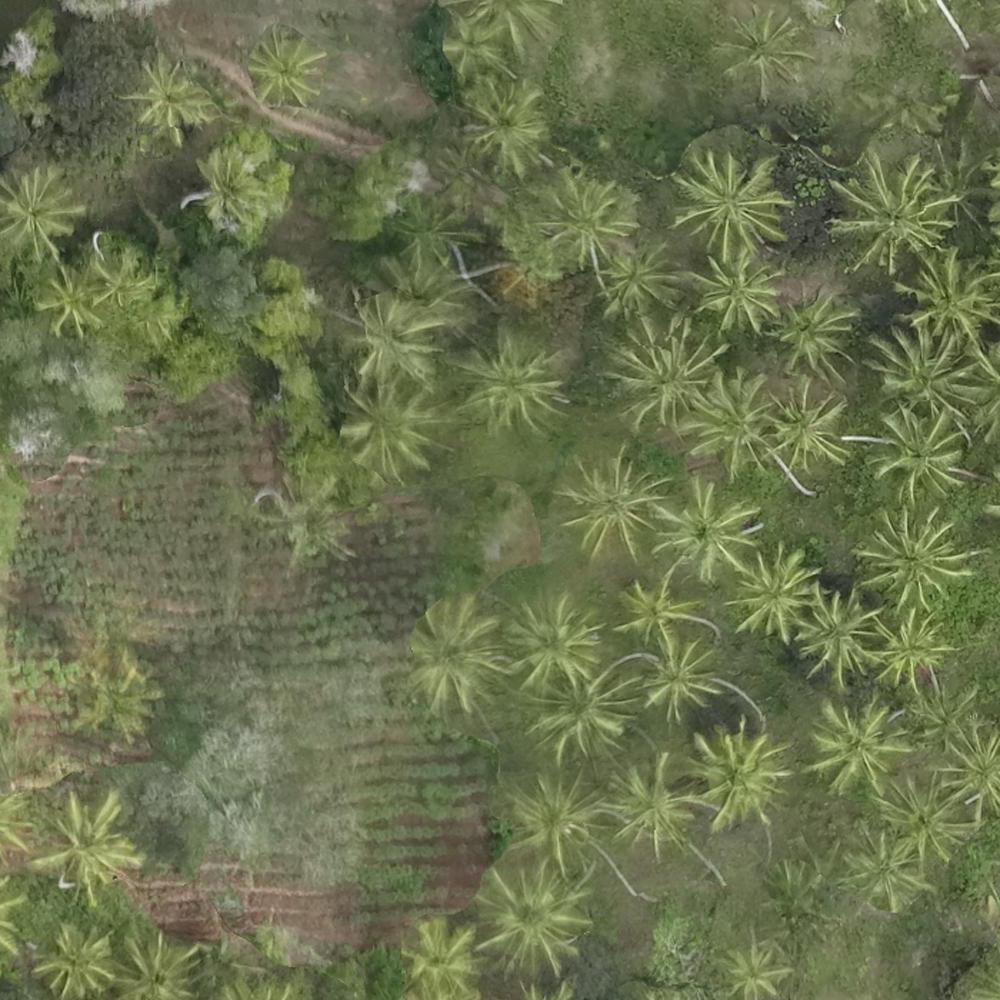Palm: (825, 160, 949, 263), (480, 867, 590, 974), (866, 326, 982, 426), (35, 790, 143, 896), (609, 327, 721, 428), (672, 150, 782, 251), (449, 336, 562, 429), (563, 456, 665, 559), (687, 727, 788, 828), (652, 477, 754, 577), (861, 509, 965, 602), (345, 380, 444, 474), (603, 759, 697, 856), (871, 776, 975, 861), (687, 375, 781, 469), (900, 248, 996, 340), (810, 698, 902, 794), (507, 772, 605, 862), (499, 598, 601, 684), (411, 604, 502, 700), (527, 680, 629, 765), (866, 412, 965, 498), (345, 292, 440, 381), (797, 580, 880, 680), (719, 12, 813, 99), (532, 178, 628, 263), (455, 84, 551, 168), (726, 548, 817, 634), (843, 826, 934, 912), (766, 381, 853, 467), (1, 164, 80, 257), (592, 243, 684, 321), (617, 572, 716, 642), (691, 256, 779, 333), (637, 636, 720, 716), (400, 915, 484, 994), (129, 57, 214, 133), (777, 290, 853, 375), (931, 723, 1000, 813), (34, 927, 119, 1000), (865, 608, 948, 682), (913, 681, 991, 756), (245, 35, 325, 105), (113, 934, 200, 997), (190, 154, 261, 227), (720, 939, 794, 1000), (35, 269, 102, 333)
